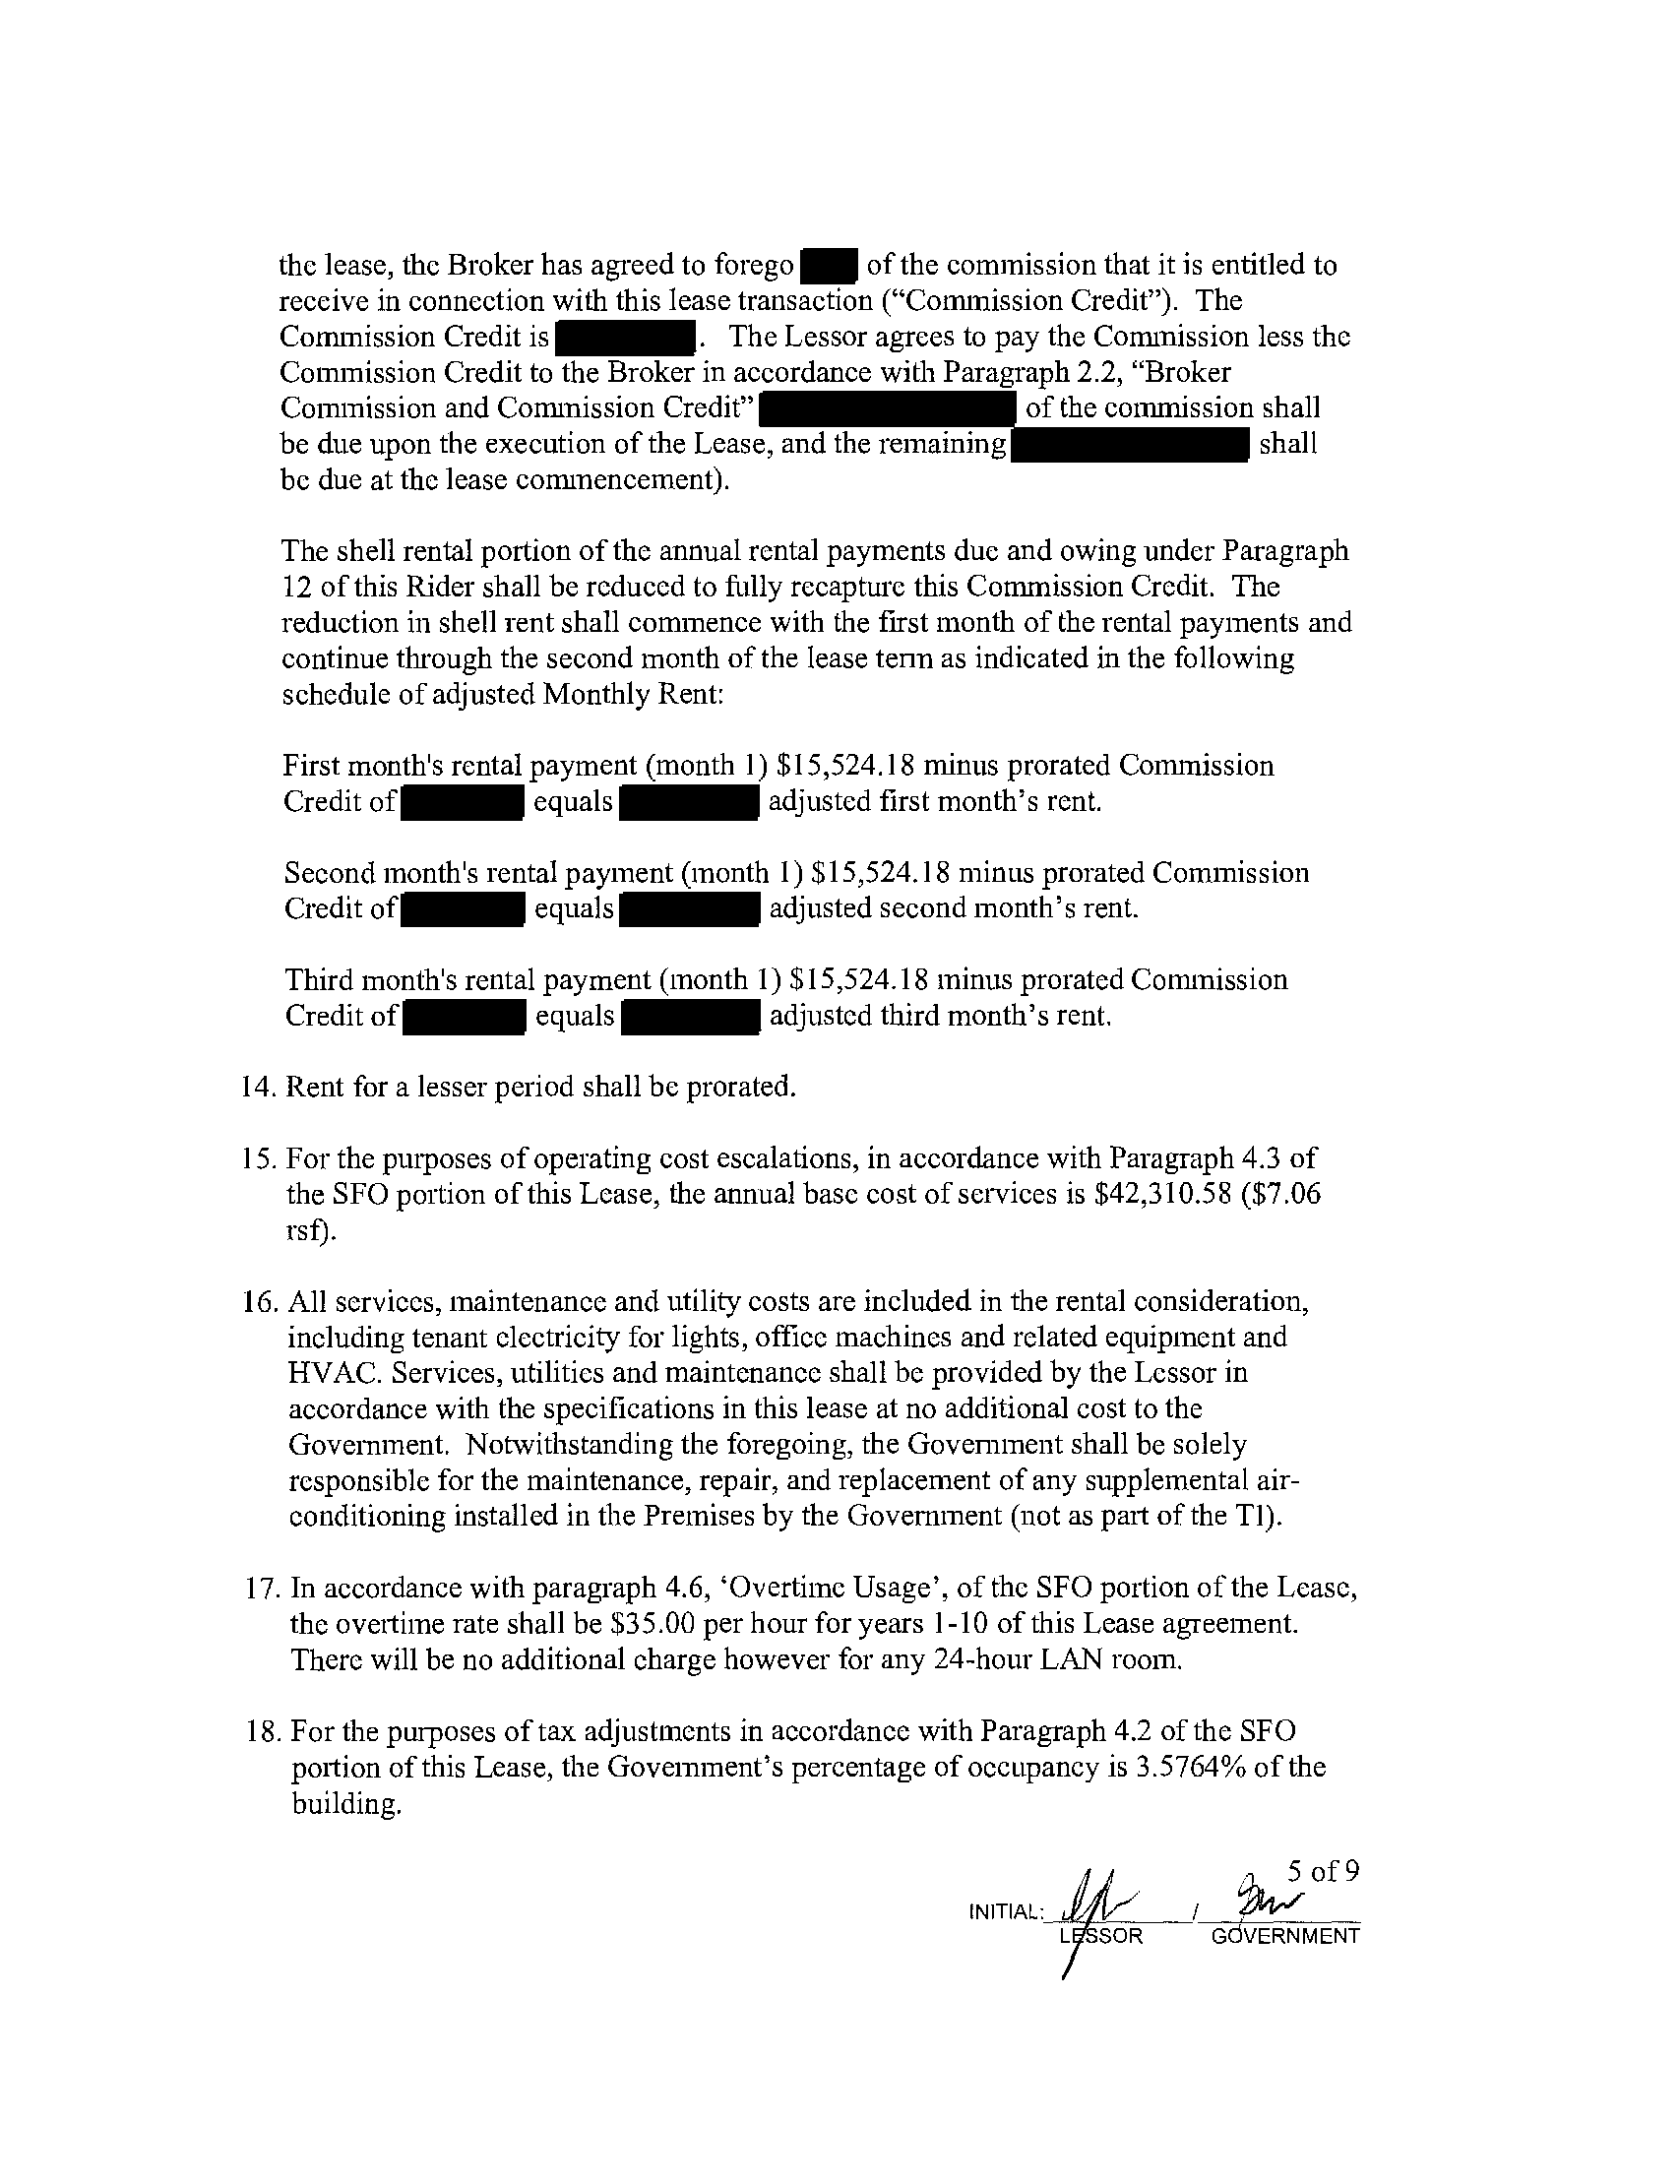handwritten: (1059, 1856, 1142, 1978), (1216, 1874, 1332, 1918)
